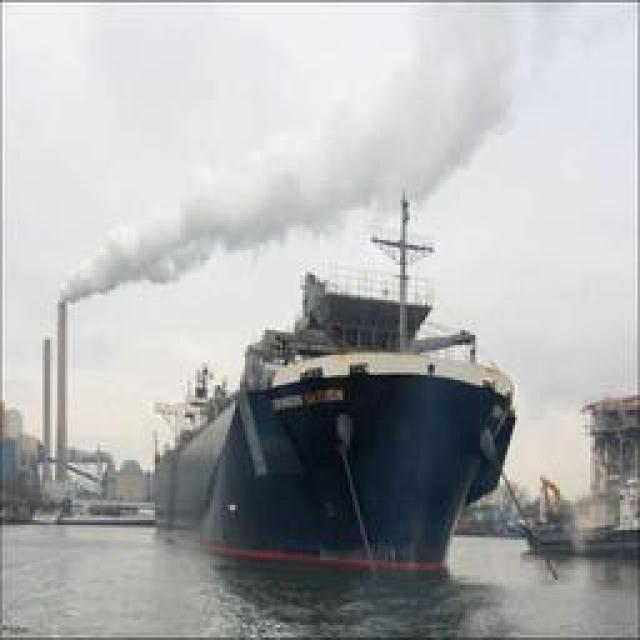CIV_Ship: (169, 261, 519, 594)
